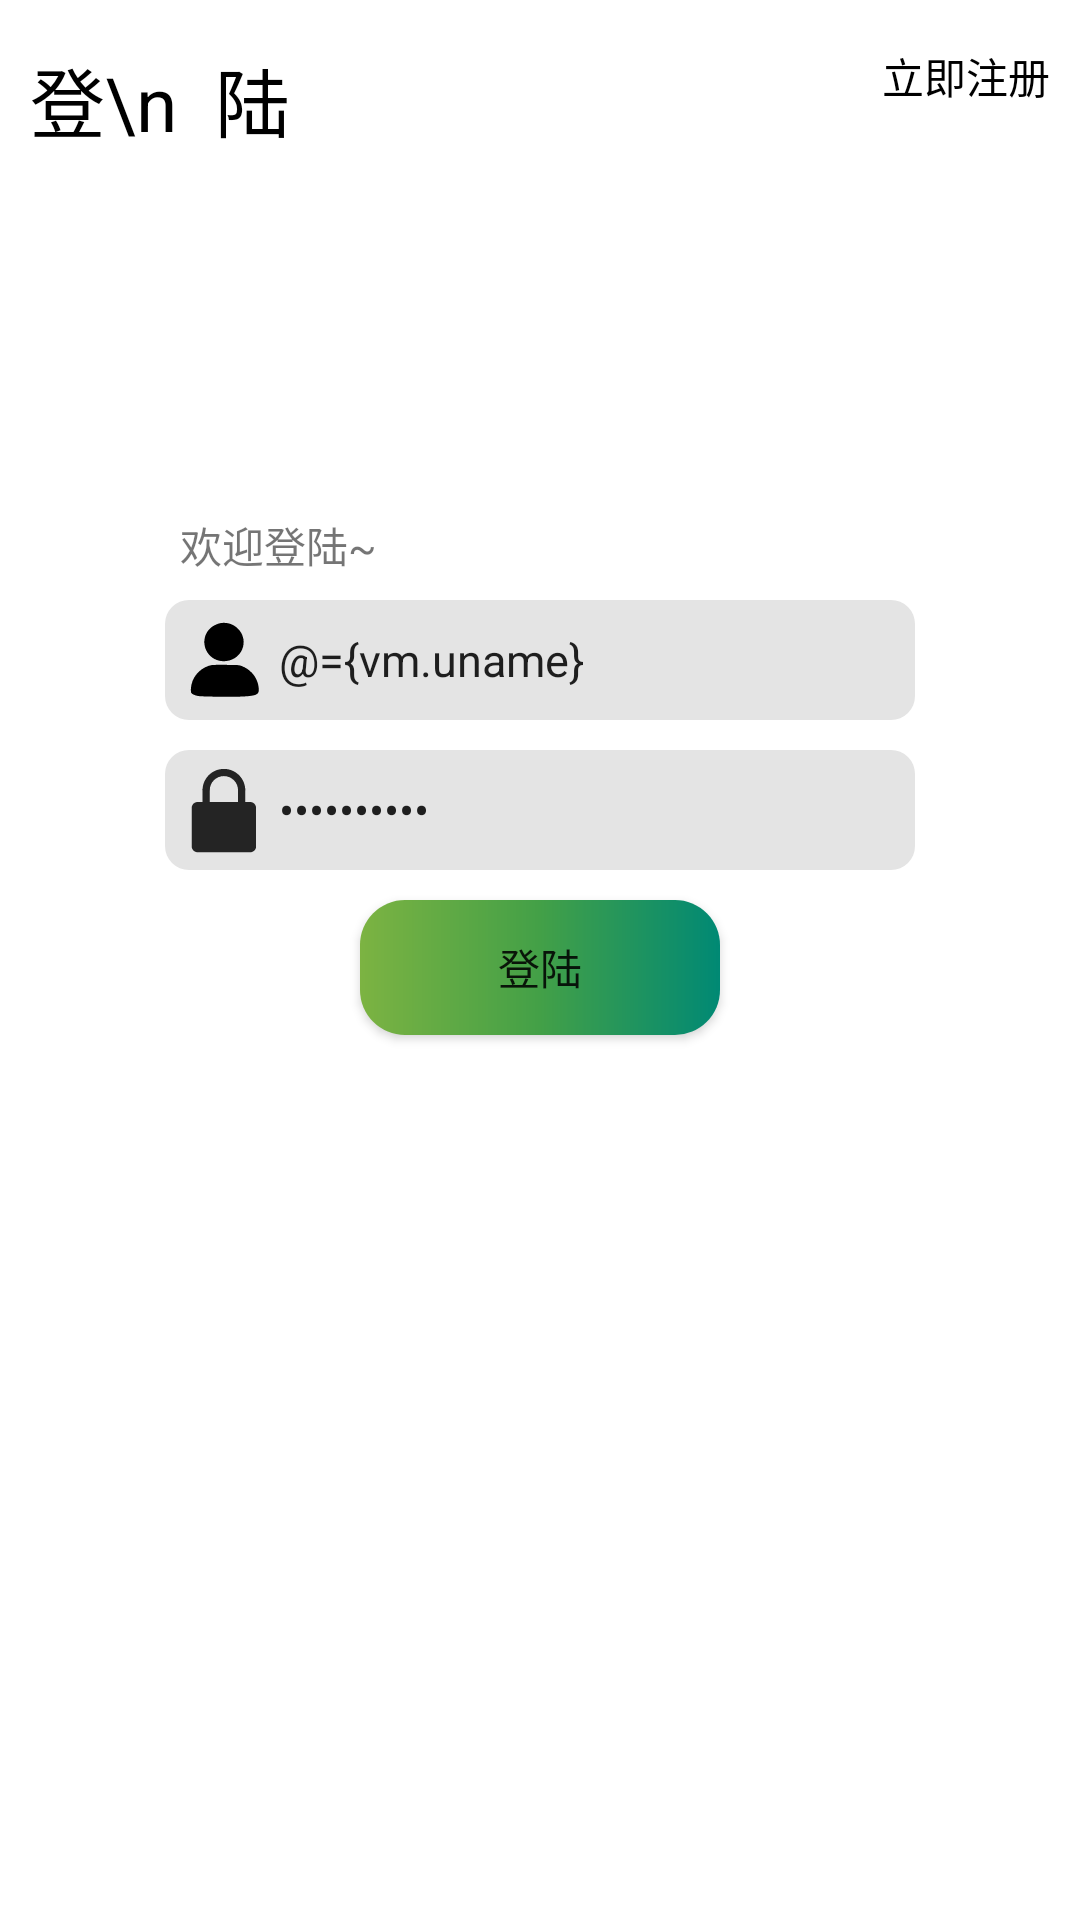

Icons on this 1080 × 1920 Android screen, each with its box as (x1, y1, x2, y2):
password: (191, 769, 256, 853)
user name: (190, 622, 259, 697)
